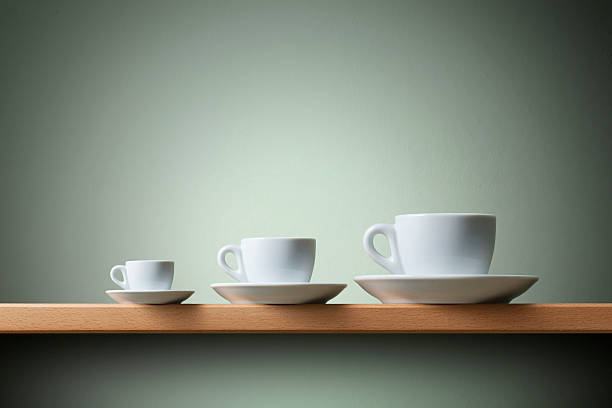Cup: (353, 193, 568, 313), (205, 225, 347, 312), (82, 245, 201, 312)
